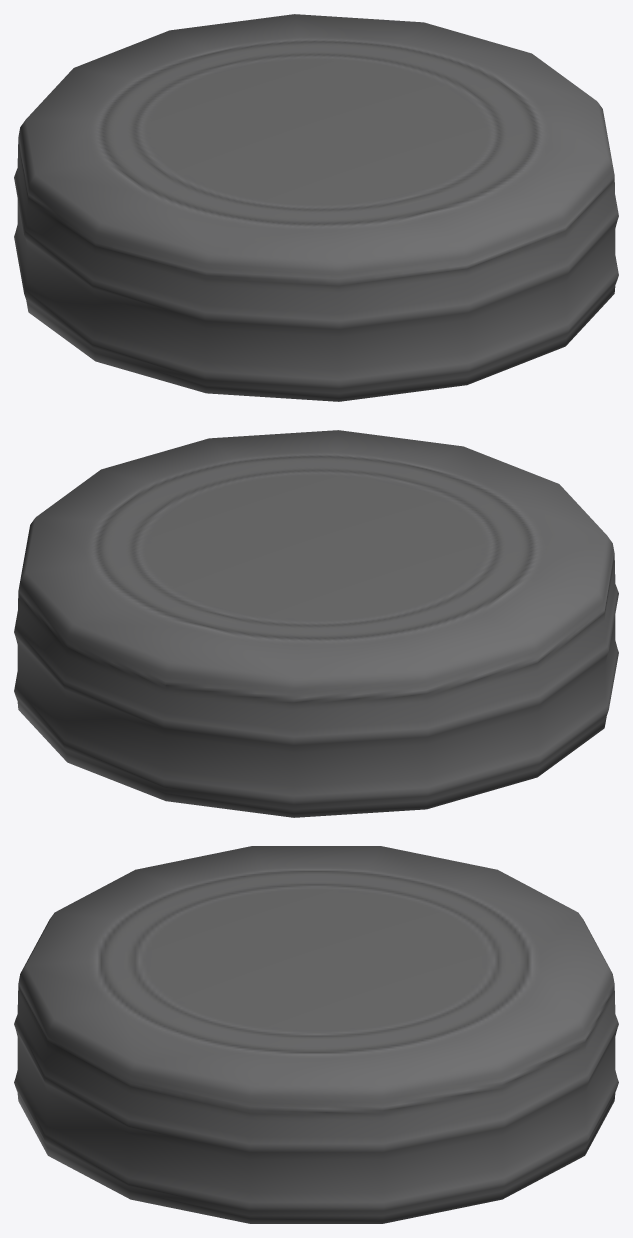
File: instrument box1.FBX
3 renders of one model, top to bottom at view 1: azimuth 30°, elevation 25°; view 2: azimuth 150°, elevation 25°; view 3: azimuth 270°, elevation 25°, orthographic.
Visible parts, largest first — view 1: instrument box1; view 2: instrument box1; view 3: instrument box1.
Part boxes in pixels (box(x1,y1,x2,y2)): instrument box1: box(14, 14, 618, 401); instrument box1: box(14, 430, 618, 817); instrument box1: box(14, 846, 618, 1223).
Size of the model in its own units: 19.34 by 19.84 by 5.51.
